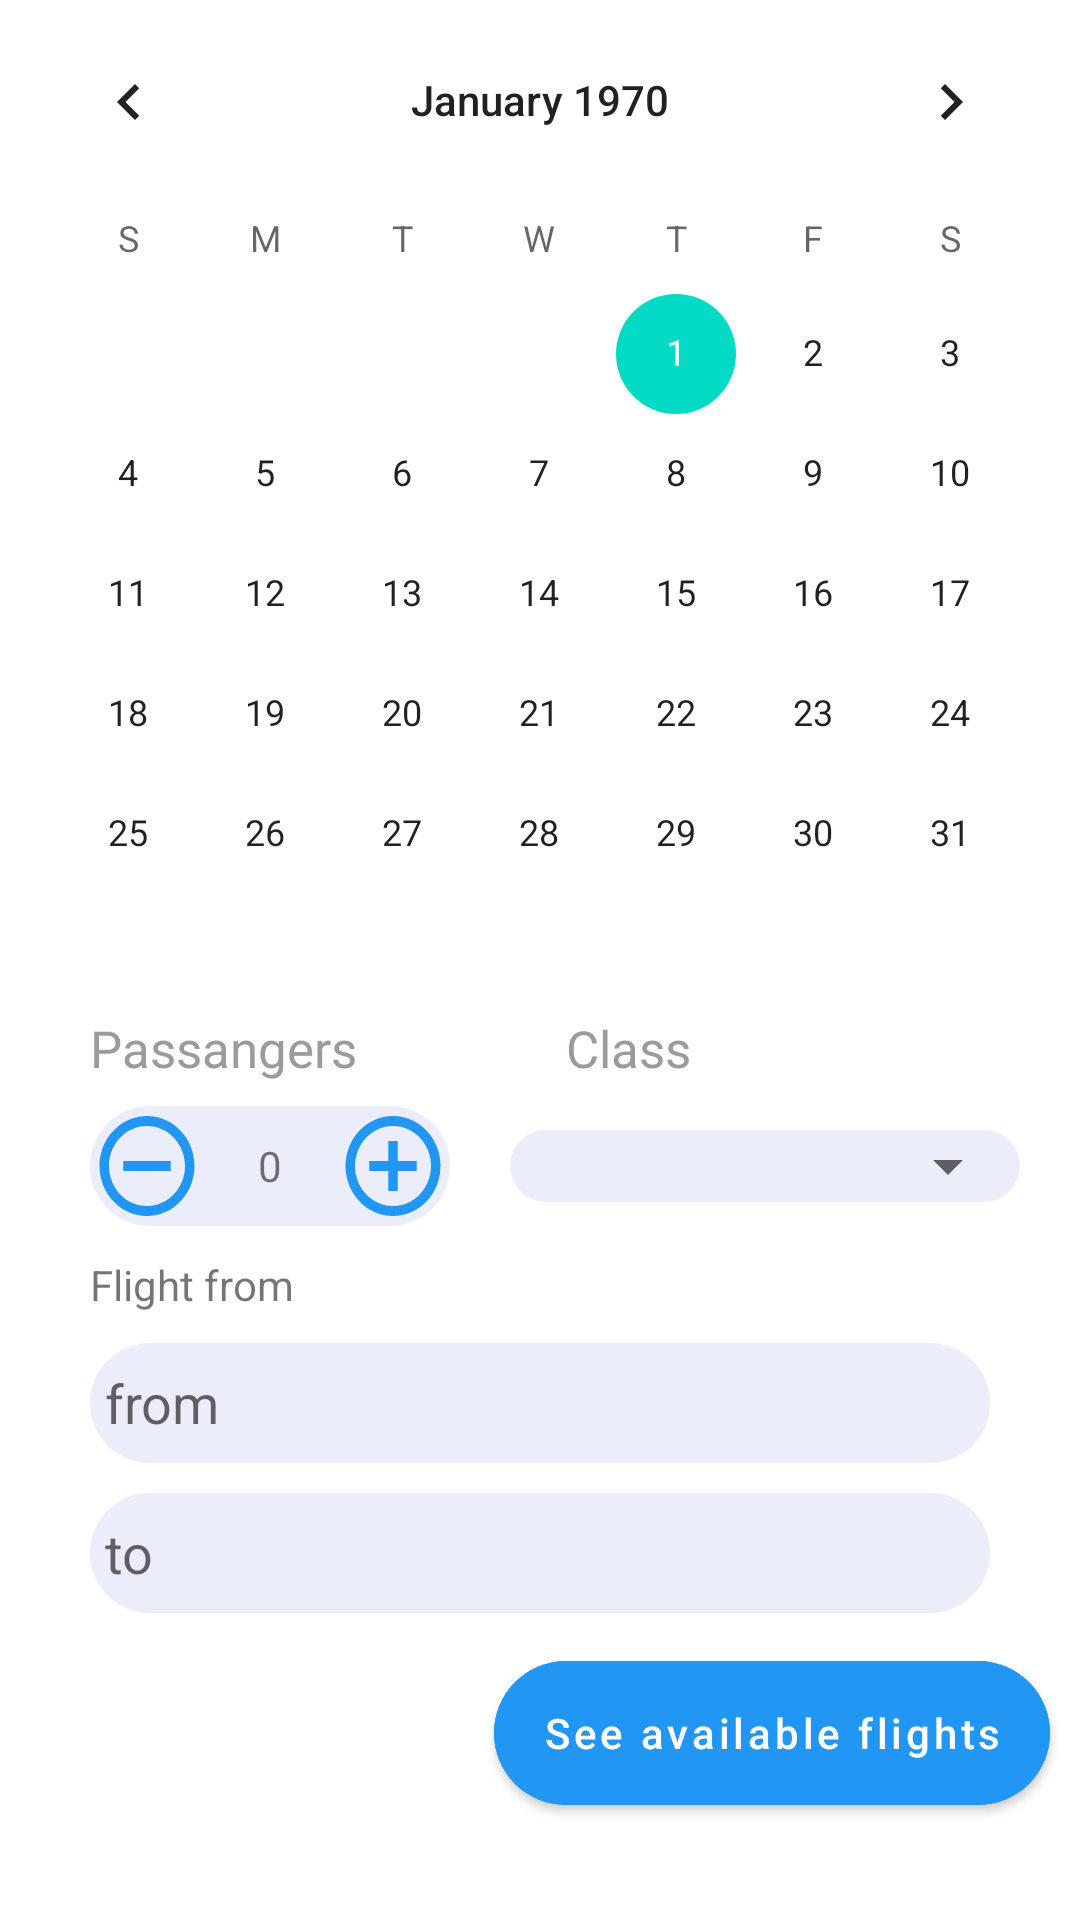

Where icons sit on this 1080px×1920px app screen, as (x1, y1, x2, y2):
add circle: (336, 1106, 450, 1226)
remove circle: (90, 1106, 204, 1226)
